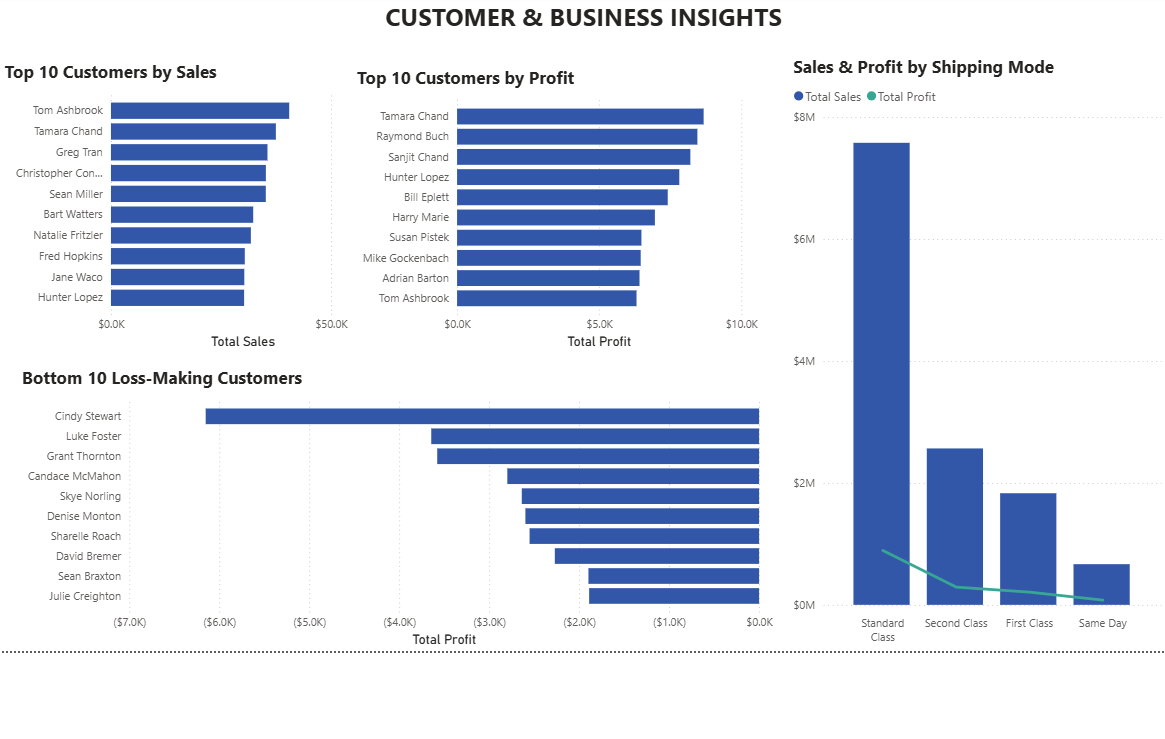

This screenshot's page, from the dashboard's own definition file:
{"tool":"powerbi","page":{"name":"Customer / Business Insights","canvas":[1280,720],"ordinal":3},"visuals":[{"type":"barChart","title":"Top 10 Customers by Sales","fields":{"Category":["retail_intelligence retail_sales.customer_name"],"Y":["retail_intelligence retail_sales.Total Sales"]},"box":[0,71.4,435,322.5],"z":0},{"type":"barChart","title":"Top 10 Customers by Profit","fields":{"Category":["retail_intelligence retail_sales.customer_name"],"Y":["retail_intelligence retail_sales.Total Profit"]},"box":[387,78.2,450.1,315.6],"z":1000},{"type":"barChart","title":"Bottom 10 Loss-Making Customers","fields":{"Category":["retail_intelligence retail_sales.customer_name"],"Y":["retail_intelligence retail_sales.Total Profit"]},"box":[19.2,407.5,834.3,312.9],"z":2000},{"type":"lineClusteredColumnComboChart","title":"Sales & Profit by Shipping Mode","fields":{"Category":["retail_intelligence retail_sales.ship_mode"],"Y":["retail_intelligence retail_sales.Total Sales"],"Y2":["retail_intelligence retail_sales.Total Profit"]},"box":[865.9,65.9,414.4,654.5],"z":2001},{"type":"textbox","box":[1.4,0,1278.9,65.9],"z":2002}]}

Visuals, with their boxes on the page's 1280x720 design canvas (x1, y1, x2, y2). These are canvas units, not pixel positions in the 1165x739 screenshot, which may show the page scaled, cropped or inside an application window:
"Top 10 Customers by Sales" barChart: {"x1": 0, "y1": 71, "x2": 435, "y2": 394}
"Top 10 Customers by Profit" barChart: {"x1": 387, "y1": 78, "x2": 837, "y2": 394}
"Bottom 10 Loss-Making Customers" barChart: {"x1": 19, "y1": 408, "x2": 854, "y2": 720}
"Sales & Profit by Shipping Mode" lineClusteredColumnComboChart: {"x1": 866, "y1": 66, "x2": 1280, "y2": 720}
textbox: {"x1": 1, "y1": 0, "x2": 1280, "y2": 66}
